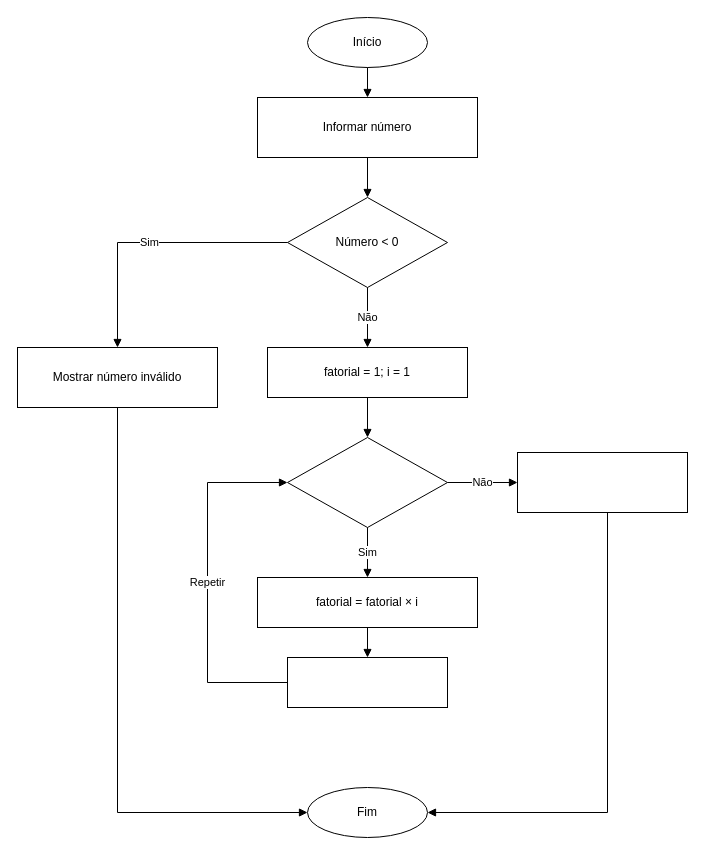
Image size: 705x855. Some labels were removed from this diagram. Each missing label, with the centre of its shape:
"i = i + 1" goes at point (367, 682).
"i ≤ número" goes at point (367, 482).
"Retornar fatorial" goes at point (602, 482).
